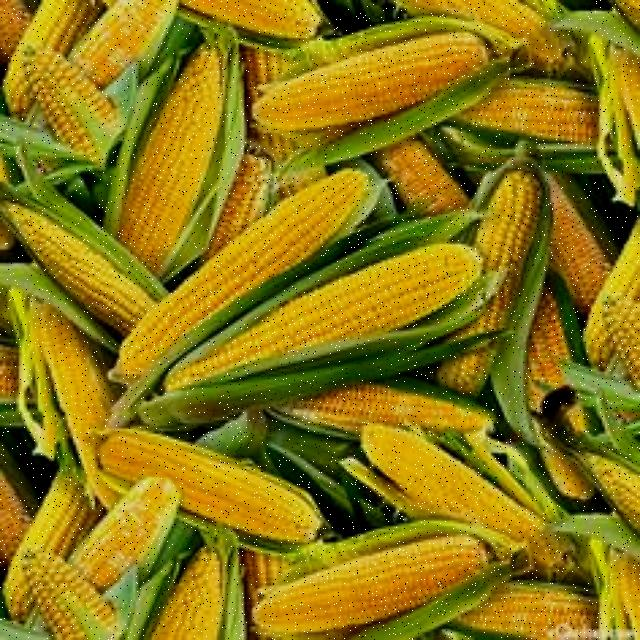Corn: (93, 157, 487, 427), (210, 30, 500, 147), (92, 435, 332, 562), (228, 534, 510, 640)
